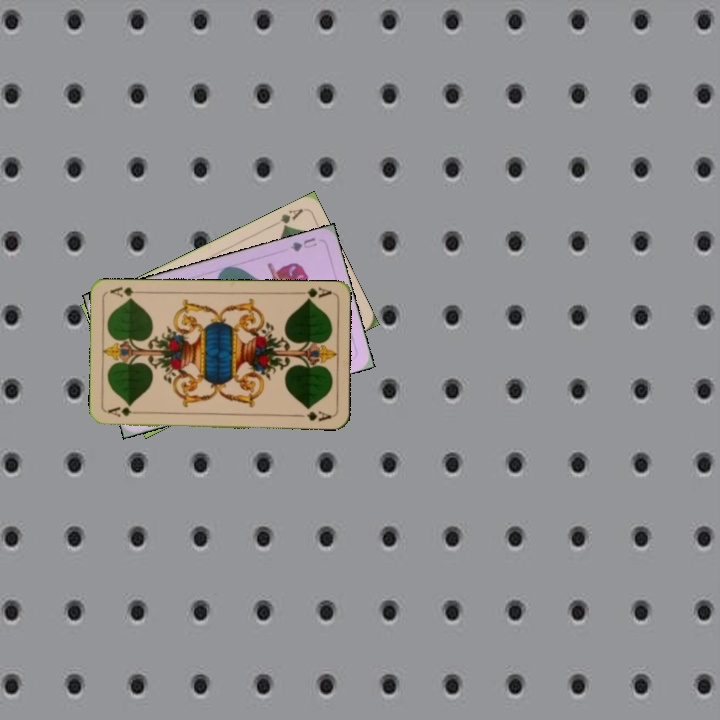GA: (268, 205, 306, 231), (294, 284, 334, 304), (104, 403, 144, 419)
GU: (286, 233, 320, 254)
